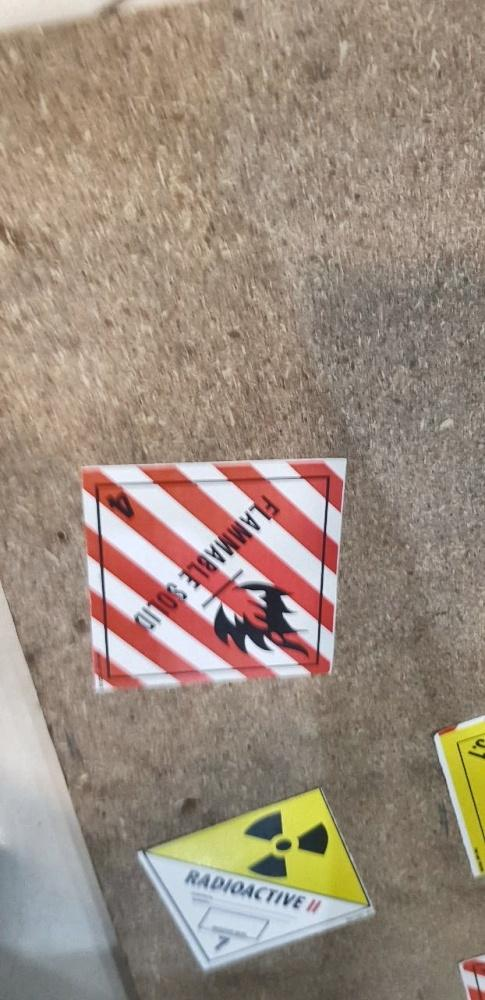flammable-solid: (91, 455, 349, 694)
radioactive: (136, 793, 375, 966)
